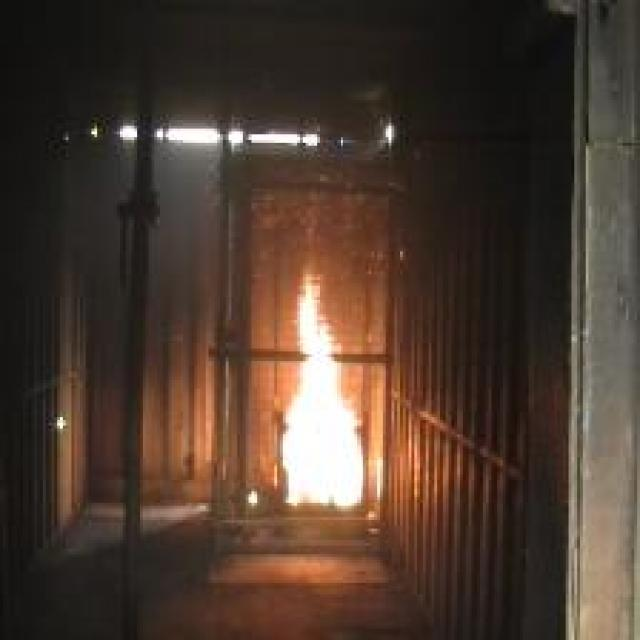Fire: (283, 268, 363, 508)
